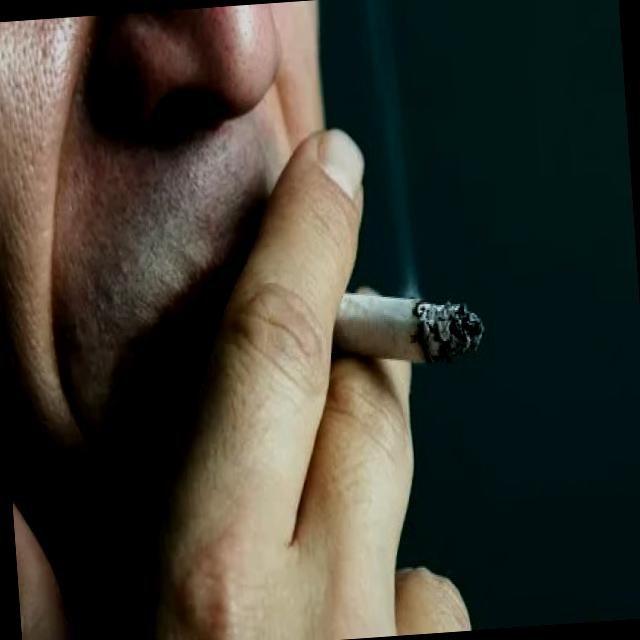smoke: (325, 269, 493, 379)
